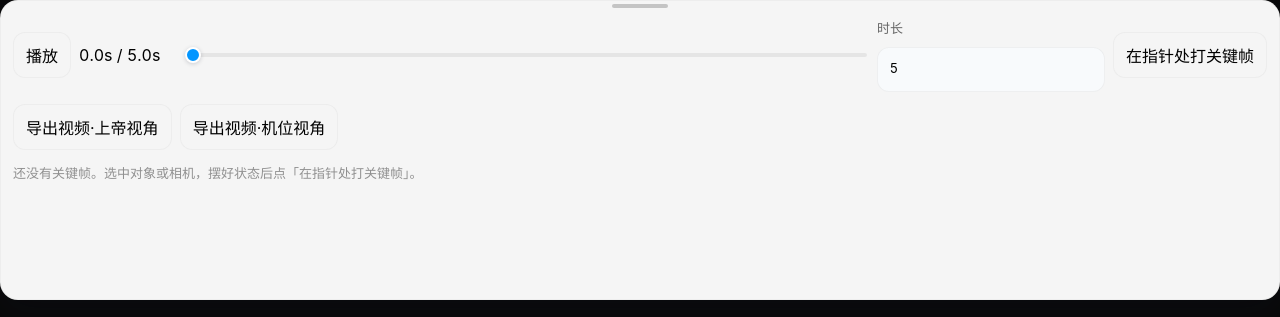
Test: toggles to pause when play button clicked
Click the button "播放" at x=42, y=55, box top-left (13, 32), bottom-right (71, 78)
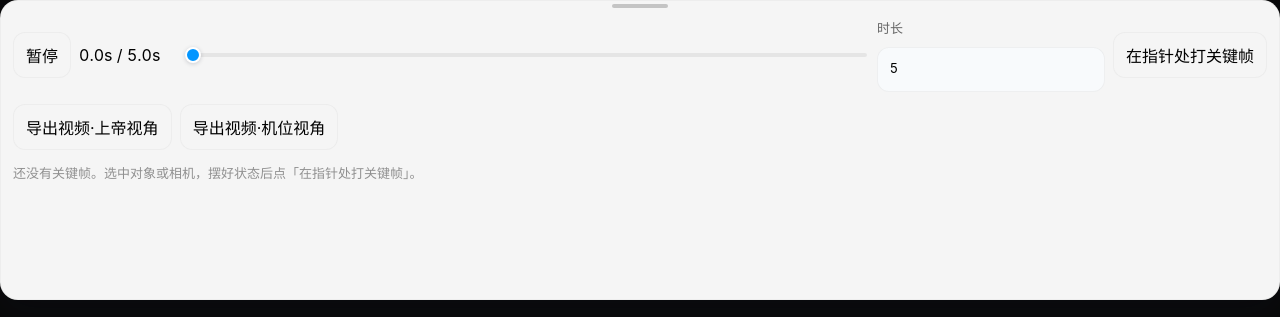
Now the button "暂停" is shown, box top-left (13, 32), bottom-right (71, 78)
